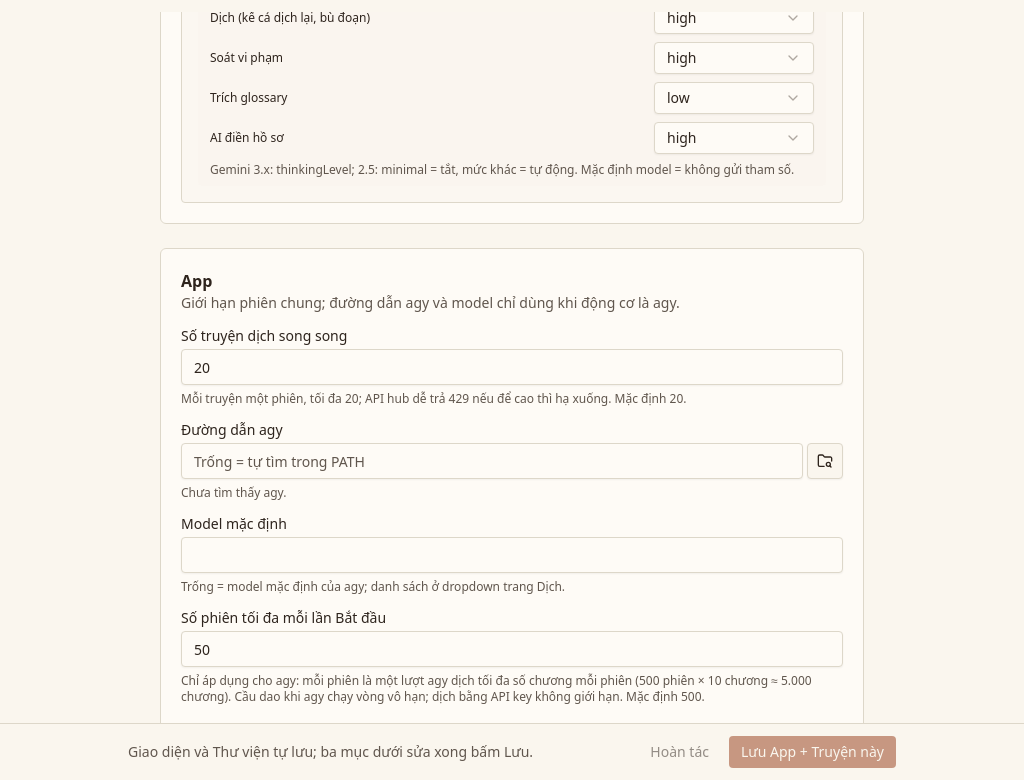
Test case: SettingsPage · Động cơ dịch › footer Lưu nằm ngoài khung cuộn, luôn hiện; nút mờ khi chưa sửa, sửa thì sáng, Hoàn tác trả giá trị cũ
(page scrolled)
Expected: the button "Lưu App + Truyện này" is disabled, [729,736,896,768]
Expected: the button "Hoàn tác" is disabled, [638,736,721,768]
Replace the text in the number field labelled "Số truyện dịch song song" with "4" at x=512, y=367, box [181,349,843,385]
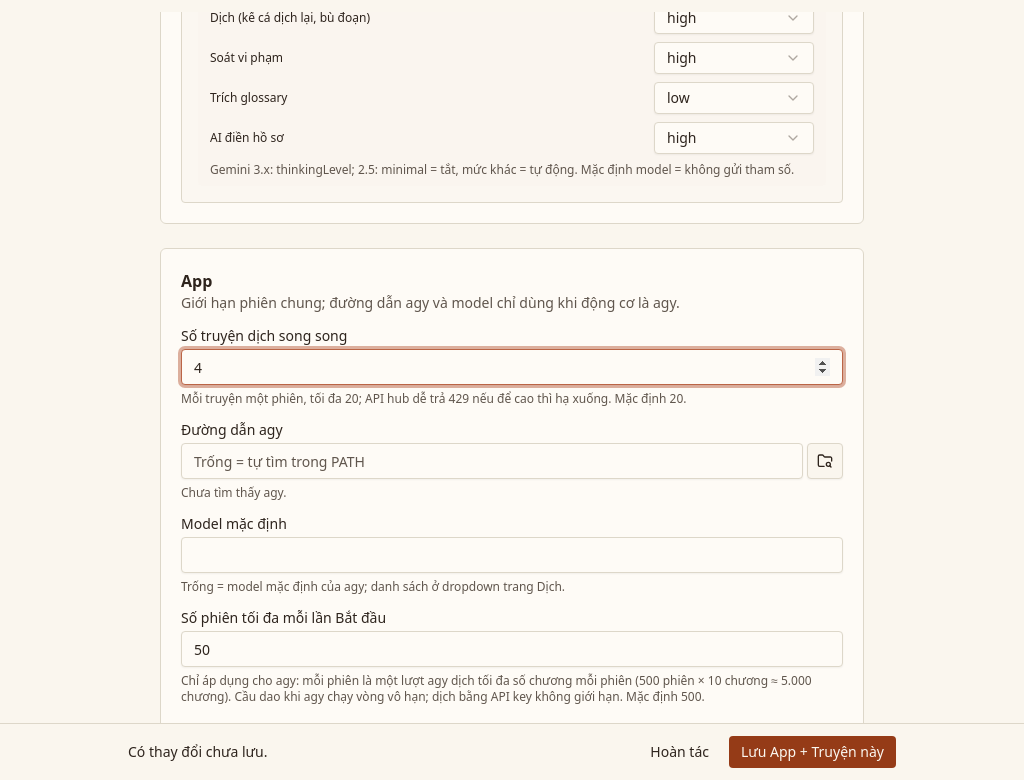
Expected: the button "Lưu App + Truyện này" is enabled, [729,736,896,768]
Expected: the text "Có thay đổi chưa lưu." is shown, [128,742,267,762]
Click the button "Hoàn tác".
click(680, 752)  # box [638,736,721,768]
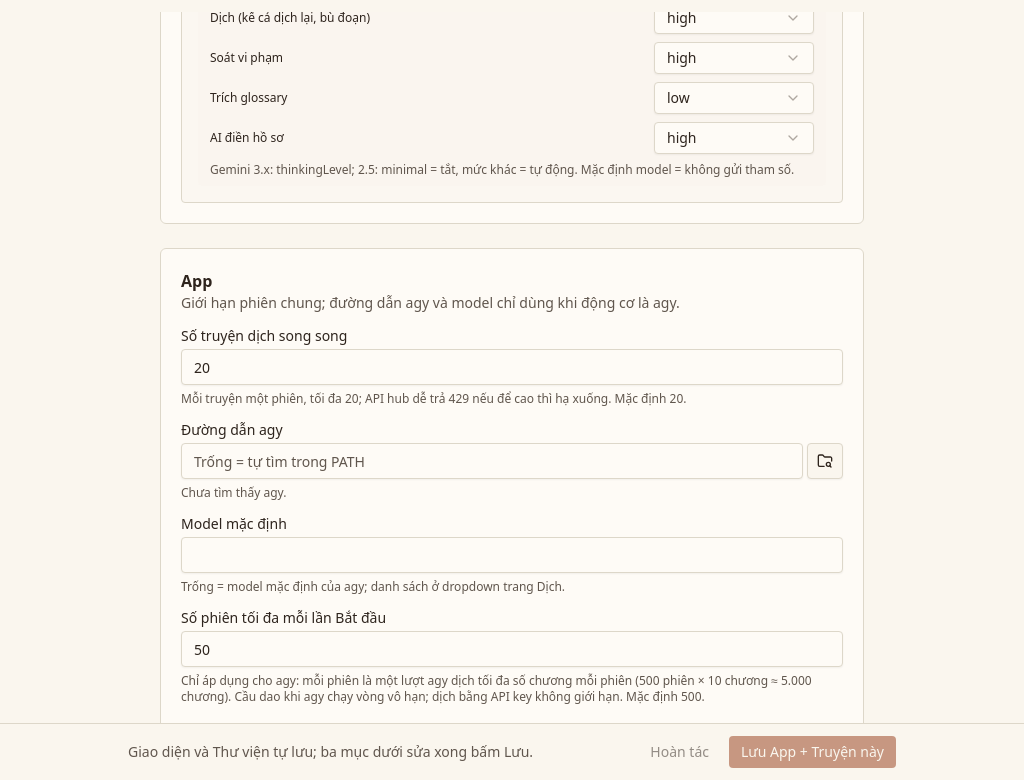
Expected: the number field labelled "Số truyện dịch song song" holds "20", [181,349,843,385]
Expected: the button "Lưu App + Truyện này" is disabled, [729,736,896,768]
